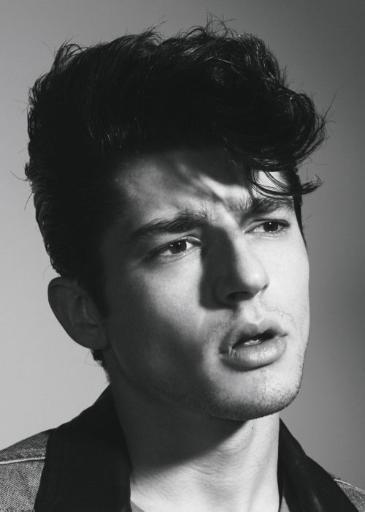left_eye: (248, 219, 292, 239)
left_lip_corner: (277, 324, 291, 342)
right_eye: (142, 235, 205, 263)
right_lip_corner: (219, 345, 238, 362)
